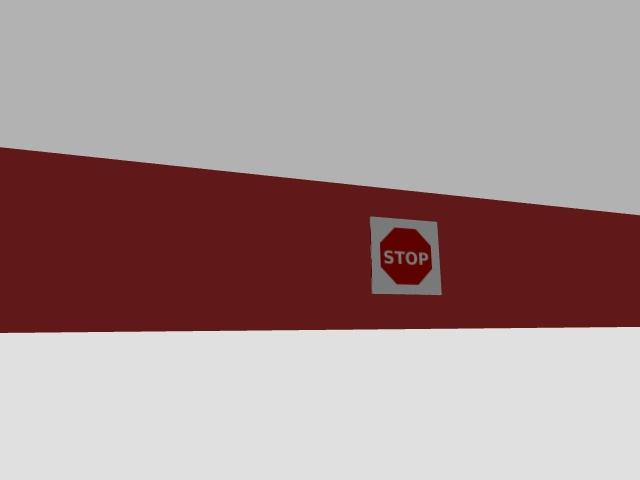stop: (371, 216, 441, 294)
